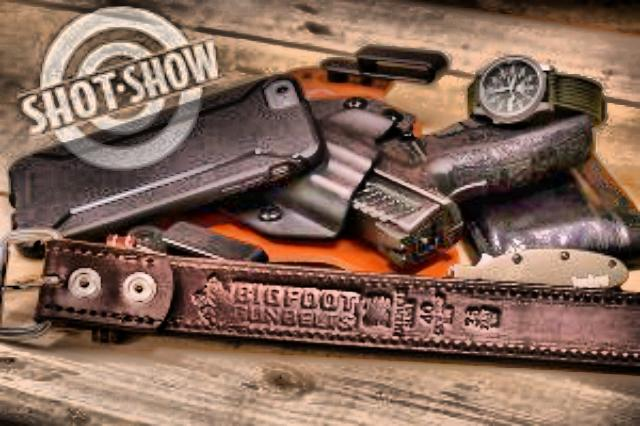pistol: (320, 106, 590, 258)
